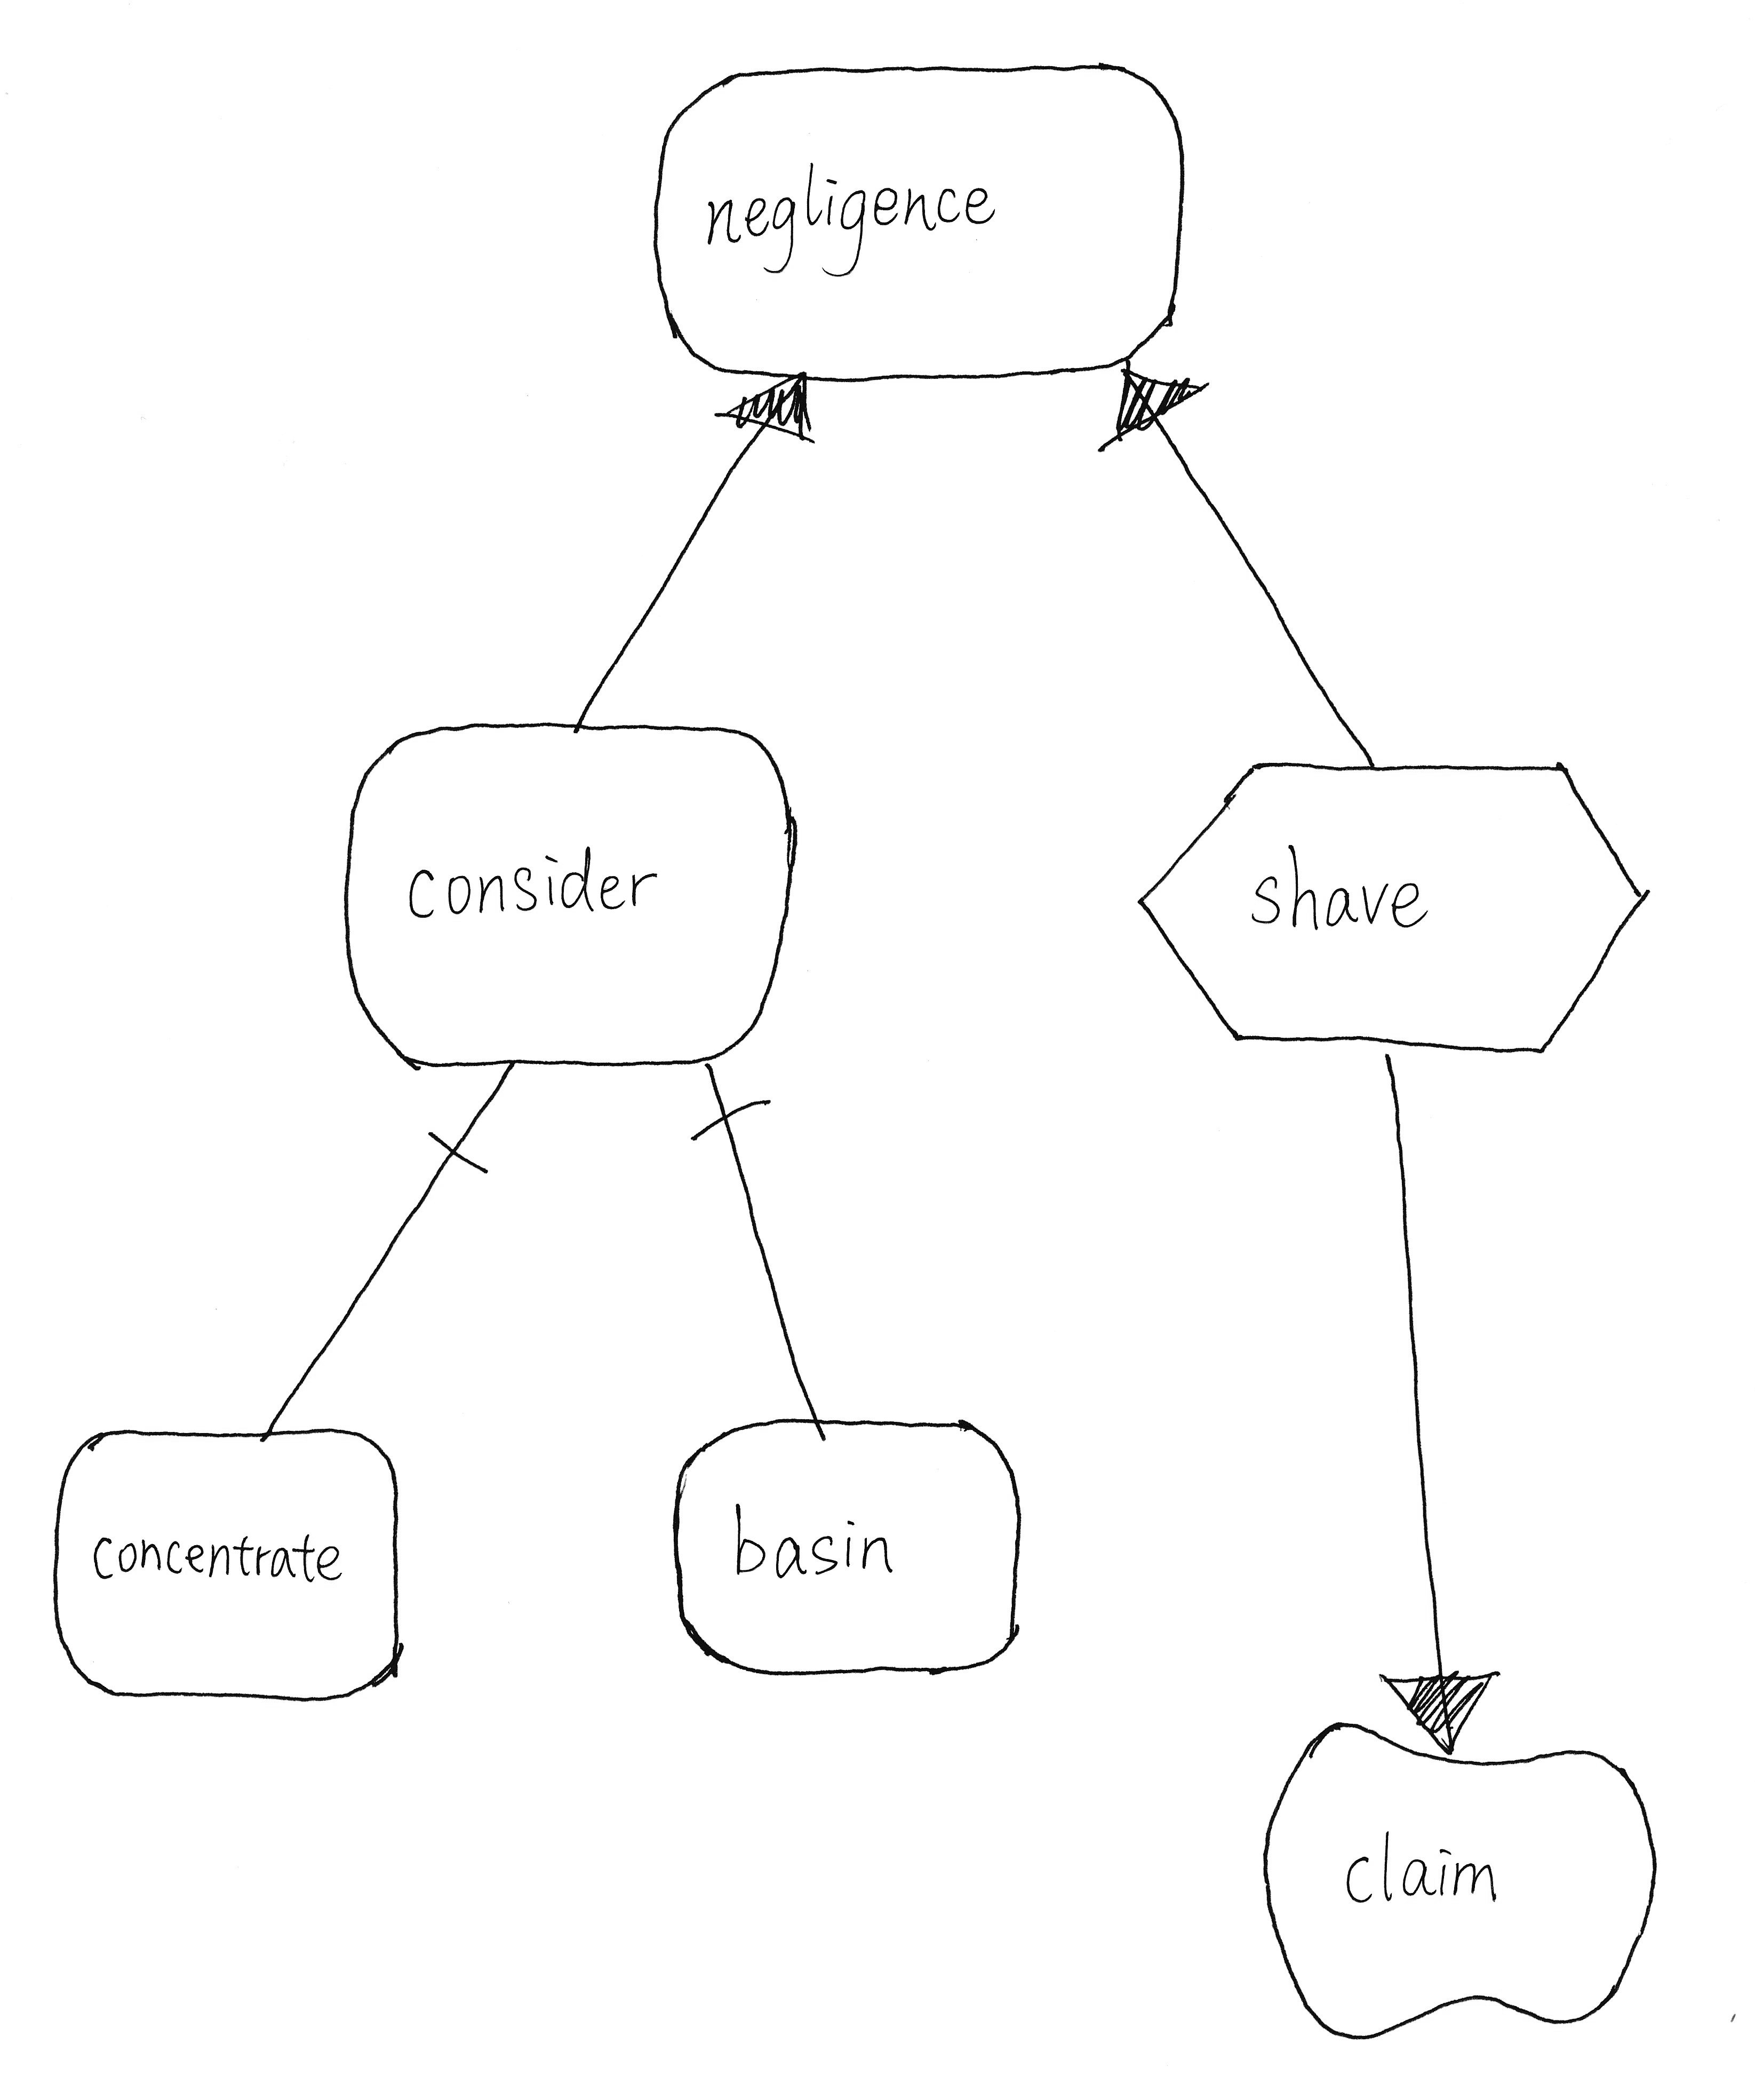and: (410, 1043, 532, 1184), (663, 1045, 782, 1155)
goal: (623, 37, 1207, 410), (305, 689, 825, 1087), (24, 1401, 436, 1725), (649, 1394, 1052, 1690)
or: (1368, 1640, 1521, 1760), (1083, 345, 1212, 483), (687, 356, 851, 464)
quality: (1246, 1690, 1685, 2048)
task: (1111, 734, 1680, 1092)
